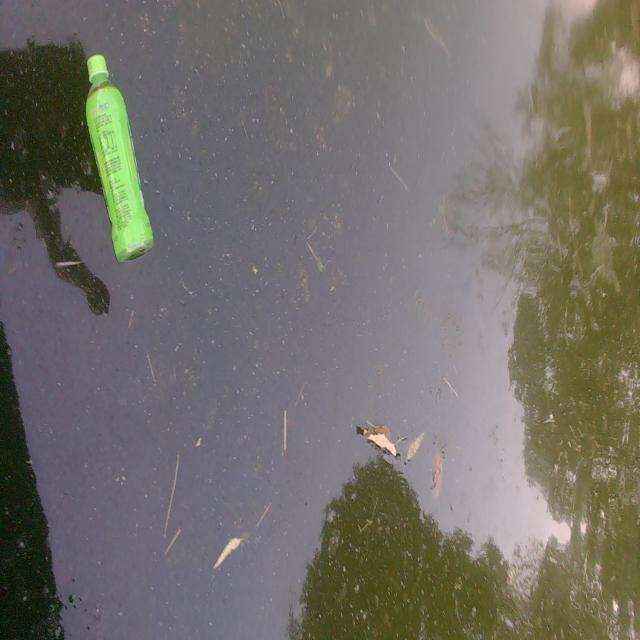bottle: (68, 42, 167, 274)
